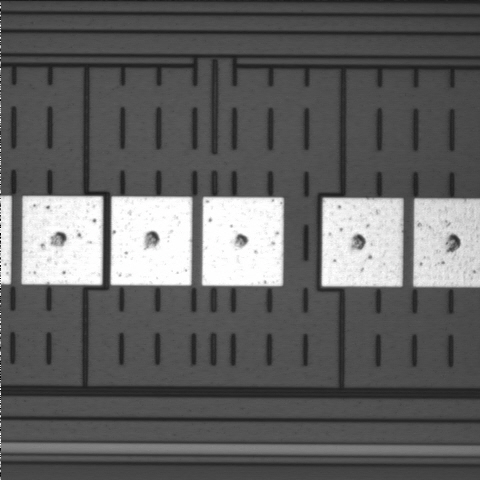pad: (202, 197, 284, 286), (111, 196, 192, 286), (22, 196, 103, 285), (322, 198, 403, 287)
